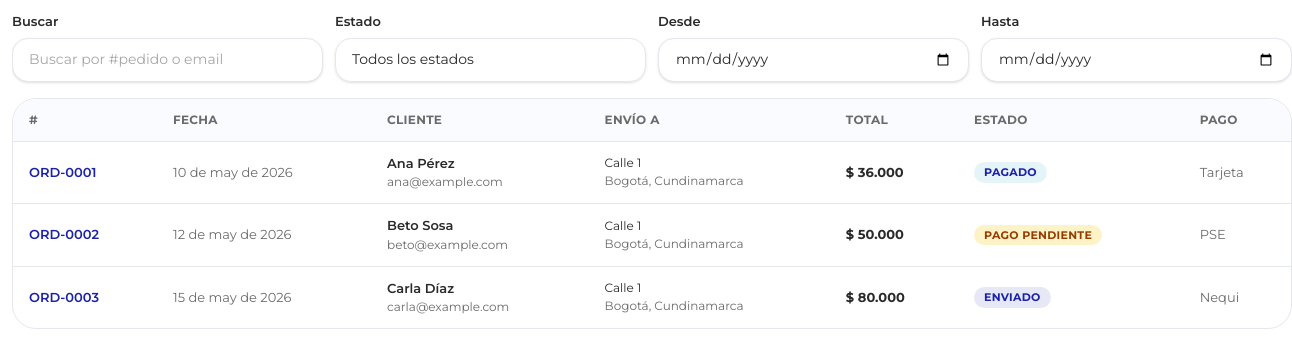
Test: OrdersTable › filtra por rango de fechas
This screenshot has width=1292, height=346.
Type "2026-05-12" into the date field labelled "Desde" at (814, 60), box [675, 49, 952, 70]
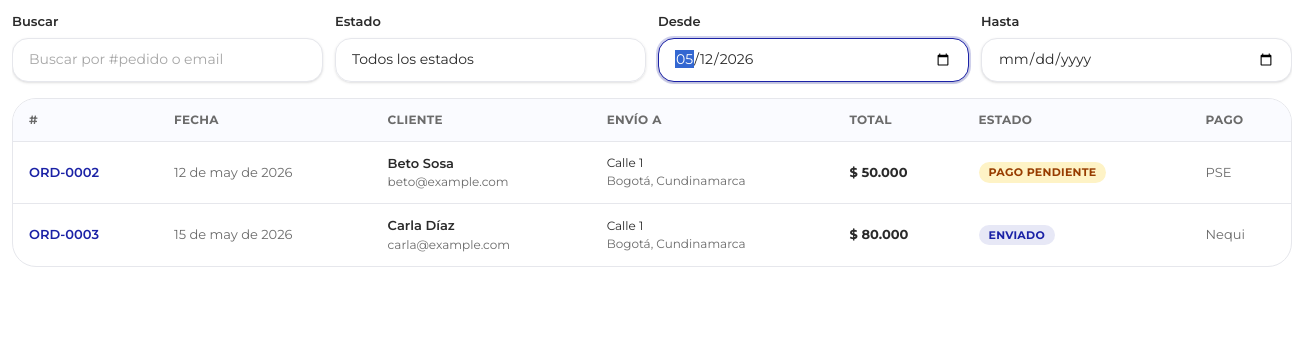
Type "2026-05-13" into the date field labelled "Hasta" at (1136, 60), box [998, 49, 1275, 70]
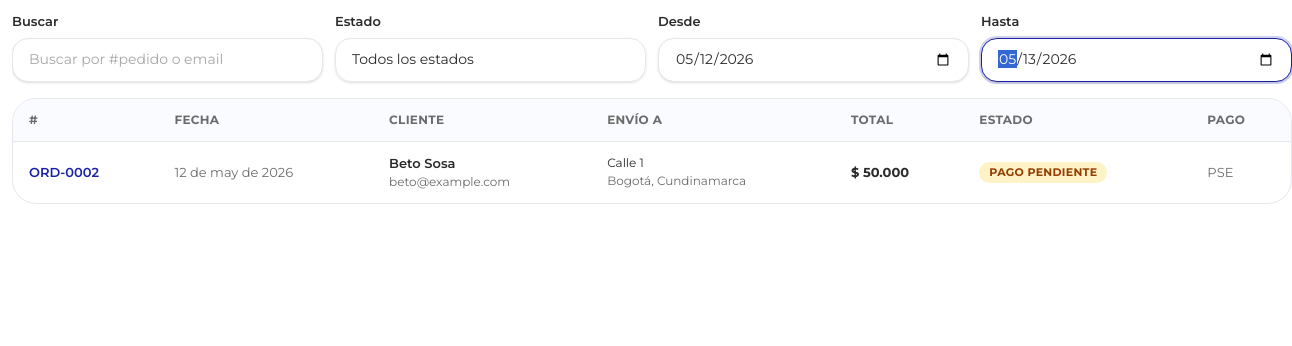
Expected: the text "ORD-0001" is not shown
Expected: the text "ORD-0003" is gone
